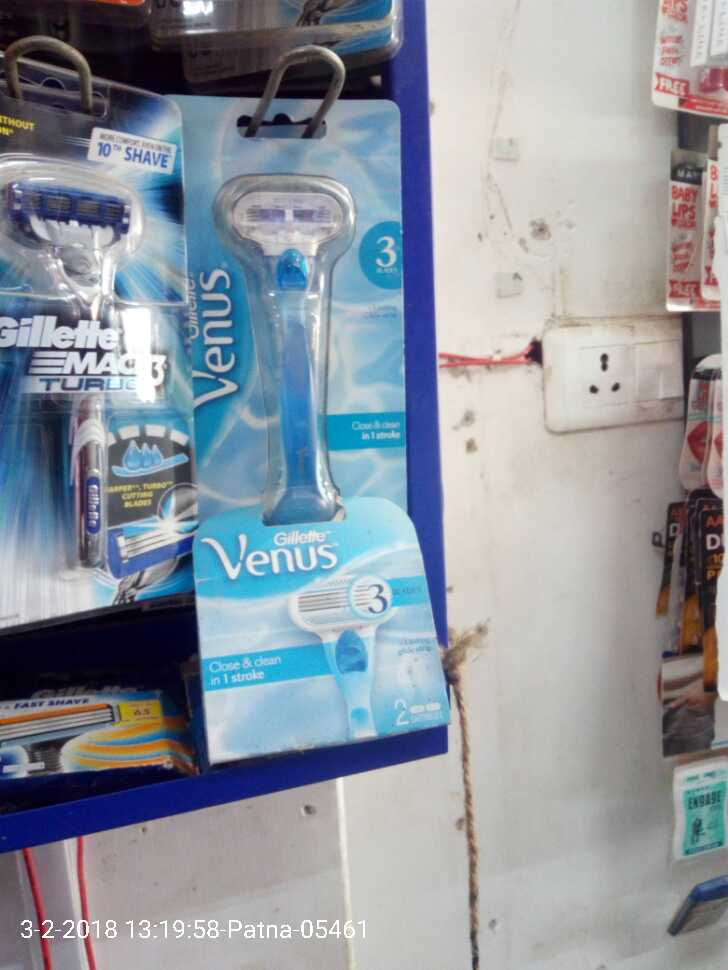beauty: (199, 98, 436, 510), (1, 136, 185, 634), (188, 513, 458, 760)
